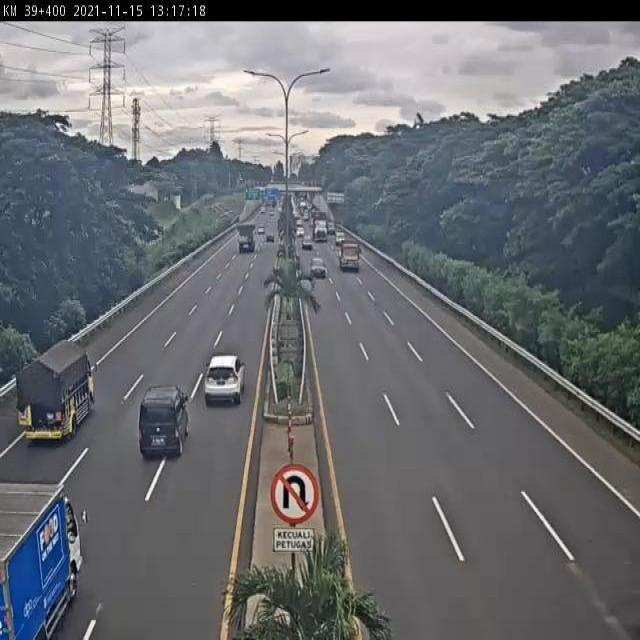big truck: (337, 240, 361, 272)
car: (137, 380, 192, 459), (202, 351, 248, 405), (308, 255, 328, 282)
truck-m-: (16, 341, 95, 447)
